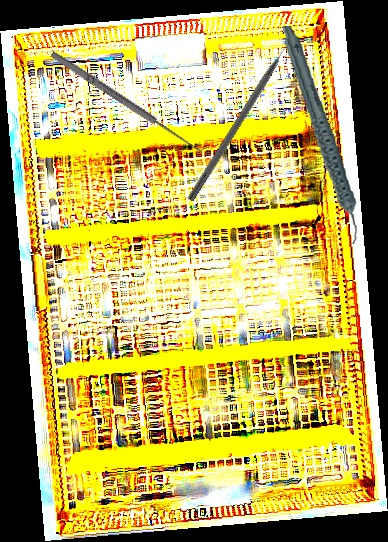Handpiece: (280, 21, 361, 249)
Hook Surgical: (185, 28, 301, 204), (48, 43, 209, 157)
